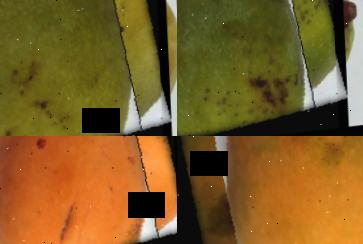PartiallyRipe: (177, 136, 363, 244)
Ripe: (0, 136, 177, 244)
Unripe: (0, 0, 165, 136), (177, 0, 340, 136)
